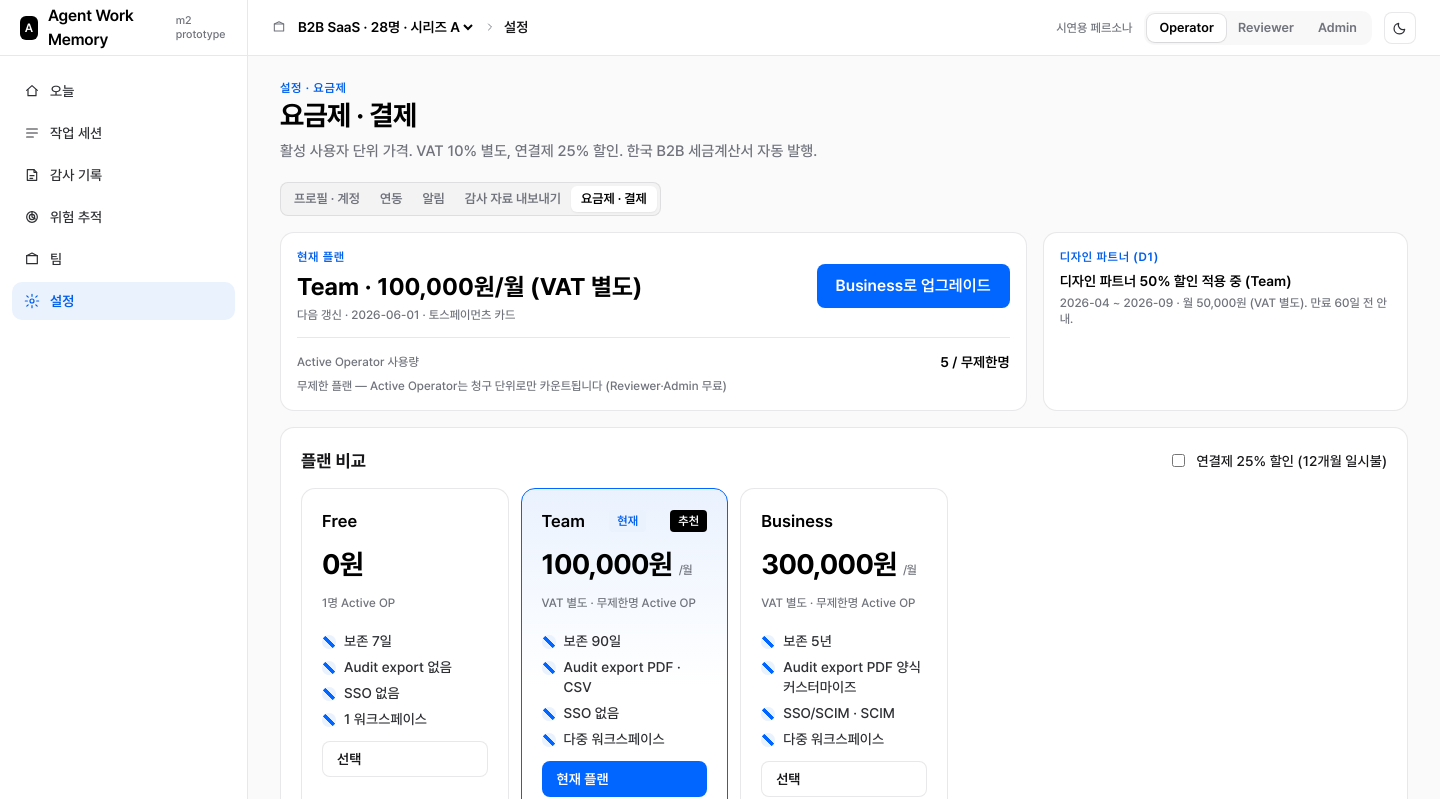
Test case: AppShell + product IA › Settings Billing: 연결제 25% toggle switches plan prices to /년 with discount math
Check: the text "100,000원" is shown, box left=542, top=547, right=672, bottom=581
Check: the text "300,000원" is shown, box left=761, top=547, right=897, bottom=581
Click the checkbox labelled "연결제 25% 할인". click: (1179, 461)
box: left=1172, top=454, right=1186, bottom=467
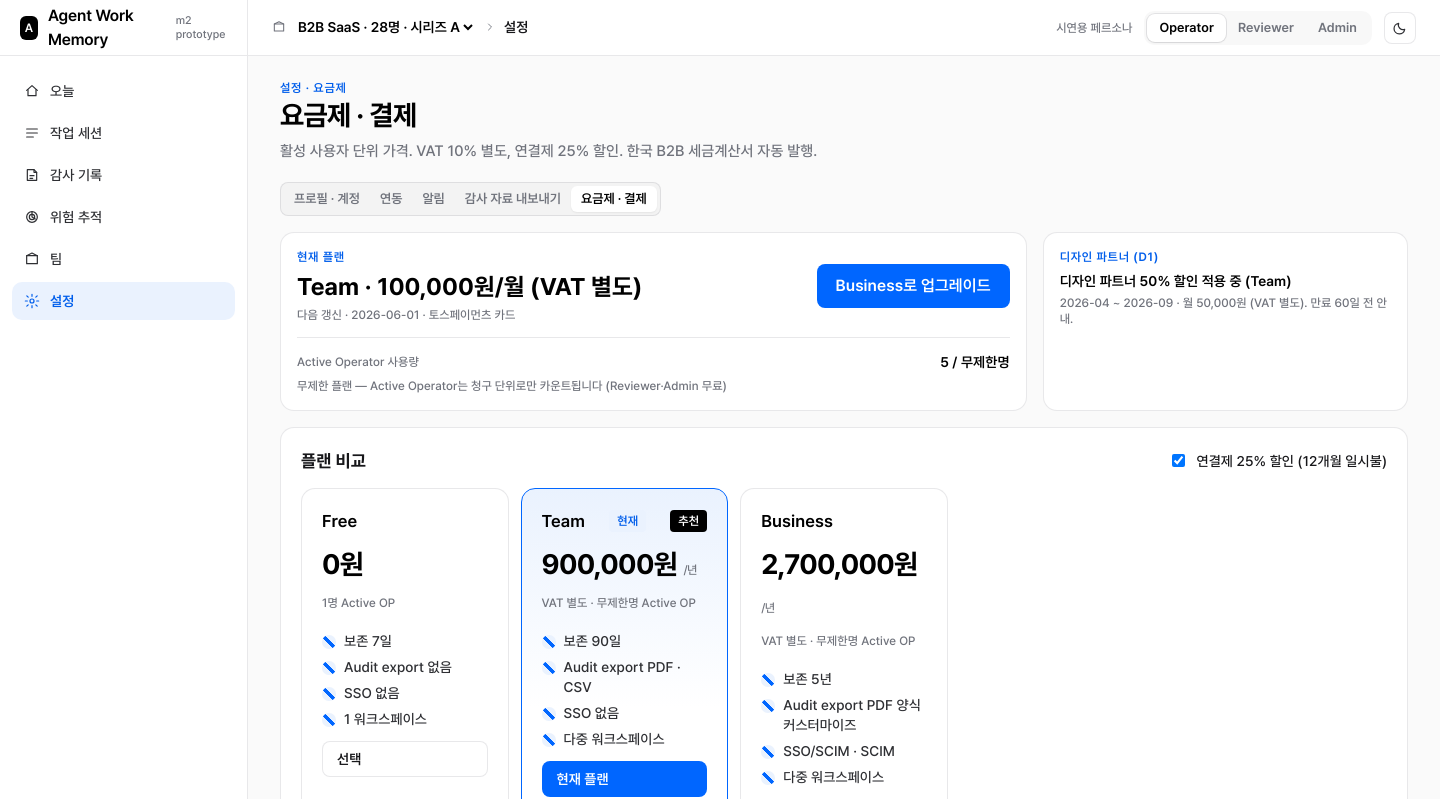
Check: the text "900,000원" is shown, box left=542, top=547, right=677, bottom=581
Check: the text "2,700,000원" is shown, box left=761, top=547, right=918, bottom=581
